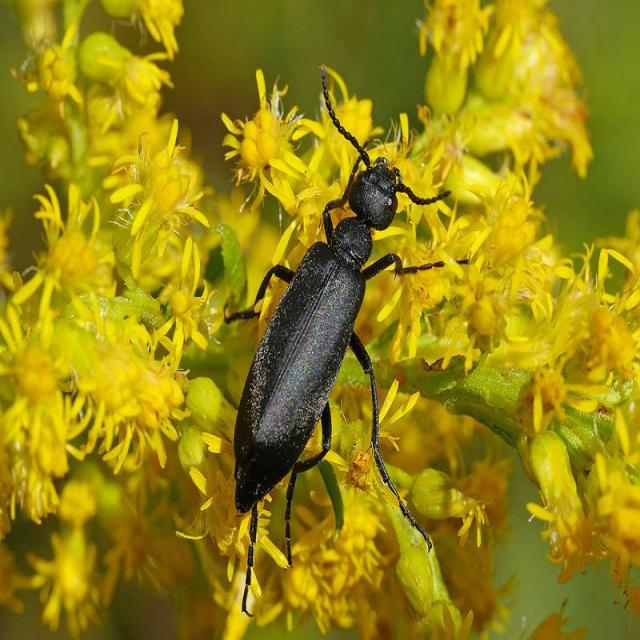BlisterBeetle-Adult-: (220, 59, 460, 574)
